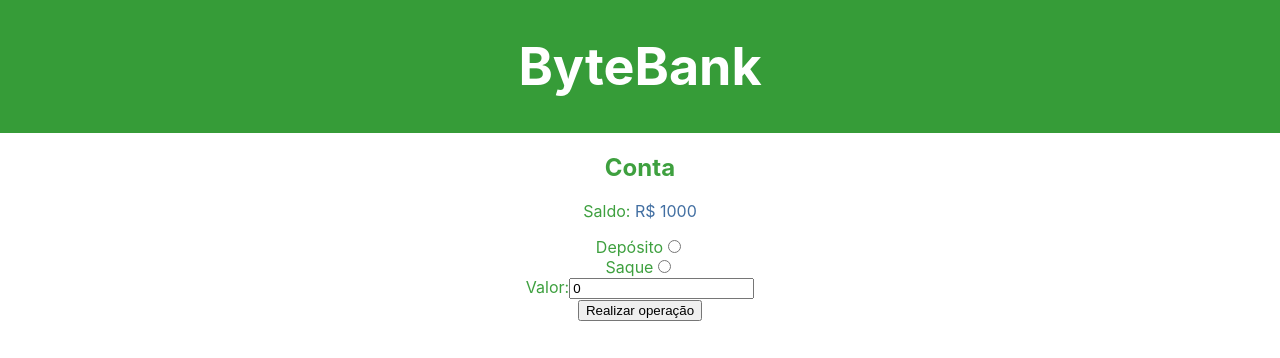
Quando eu realizo uma transação › que é um saque com um valor maior que o saldo da conta
This screenshot has width=1280, height=358.
Click the radio button labelled "Saque": (665, 267) [658,260,671,274]
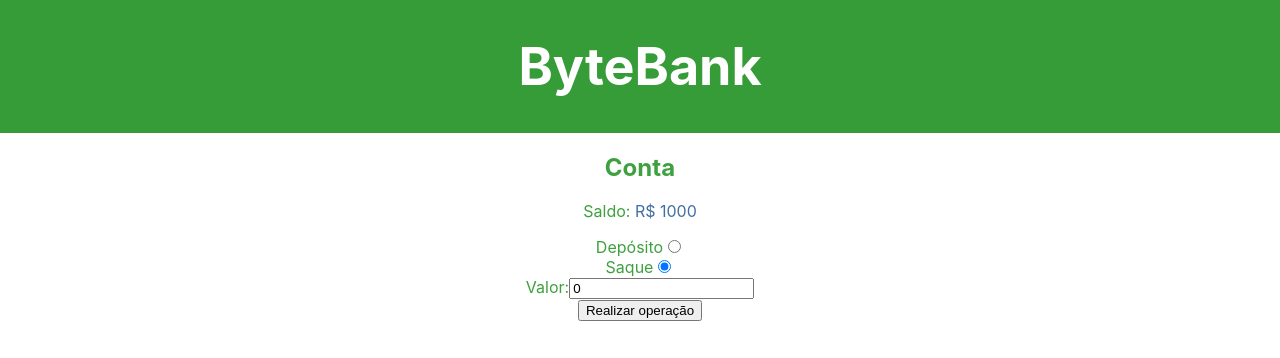
Replace the text in the number field with test id "valor" with "1500": (662, 289) [569,278,754,300]
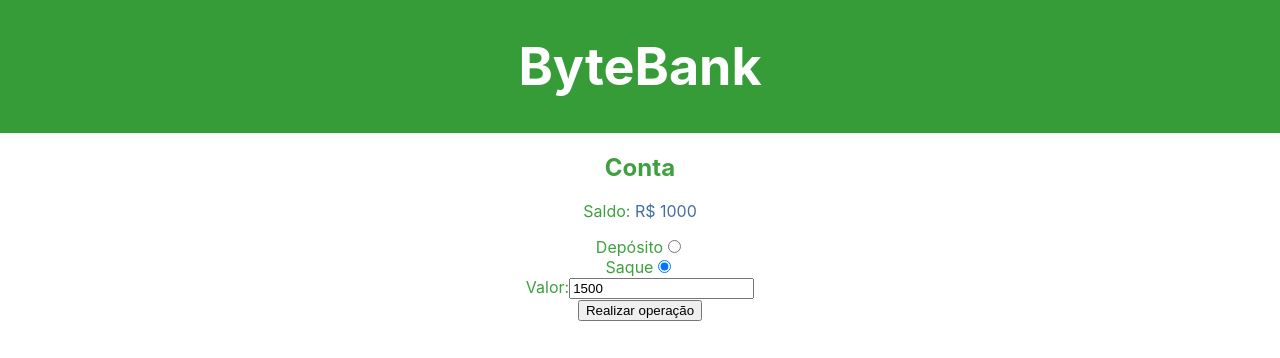
Click the button "Realizar operação": (640, 311) [578,300,702,322]
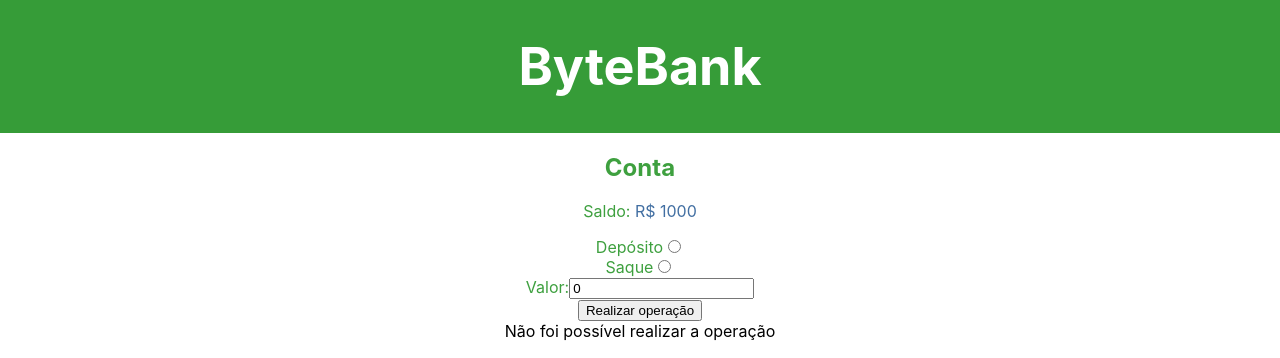
Expected: the text with test id "saldo-conta" reads "R$ 1000", [635,202,697,222]
Result: the text "Não foi possível realizar a operação" is shown at [505,322,775,342]
